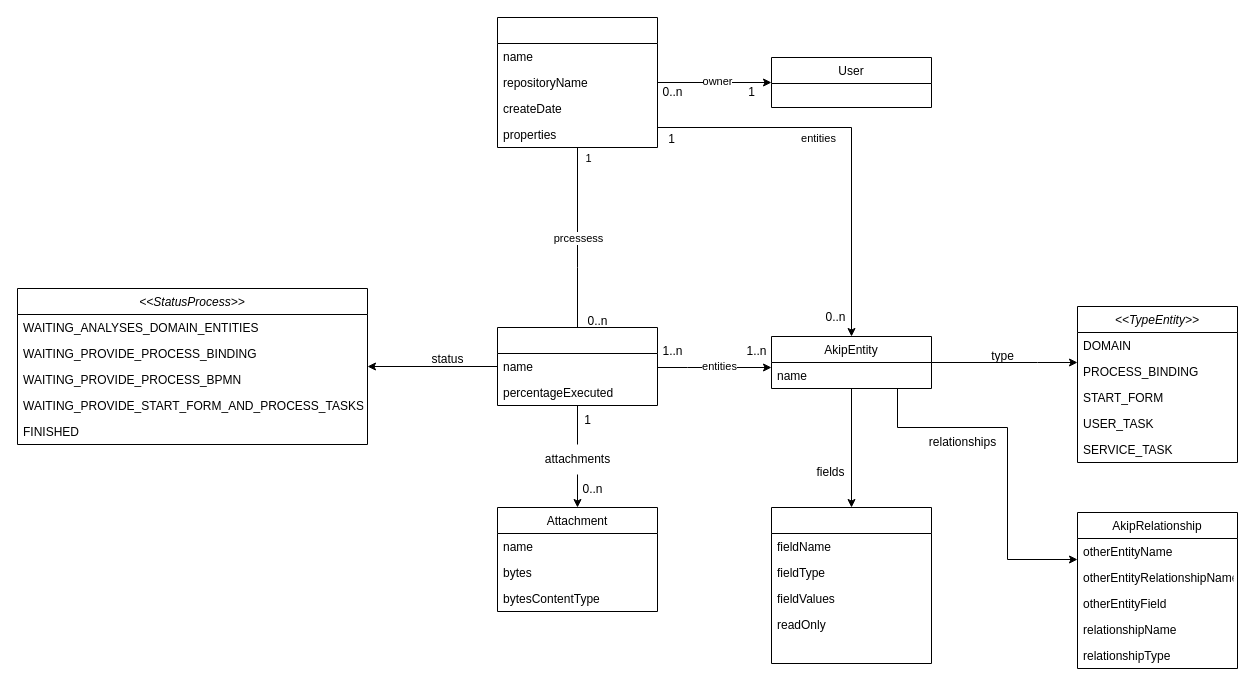
This 1255x689 diagram has some shape labels left out. The shapes that lost their labels are listed below. From the top down, each one's box as (x1, y1, x2, y2) in pixels, then its label:
(496, 16, 658, 148): AkipApplication
(496, 326, 658, 406): AkipProcess
(770, 506, 932, 664): AkipField
